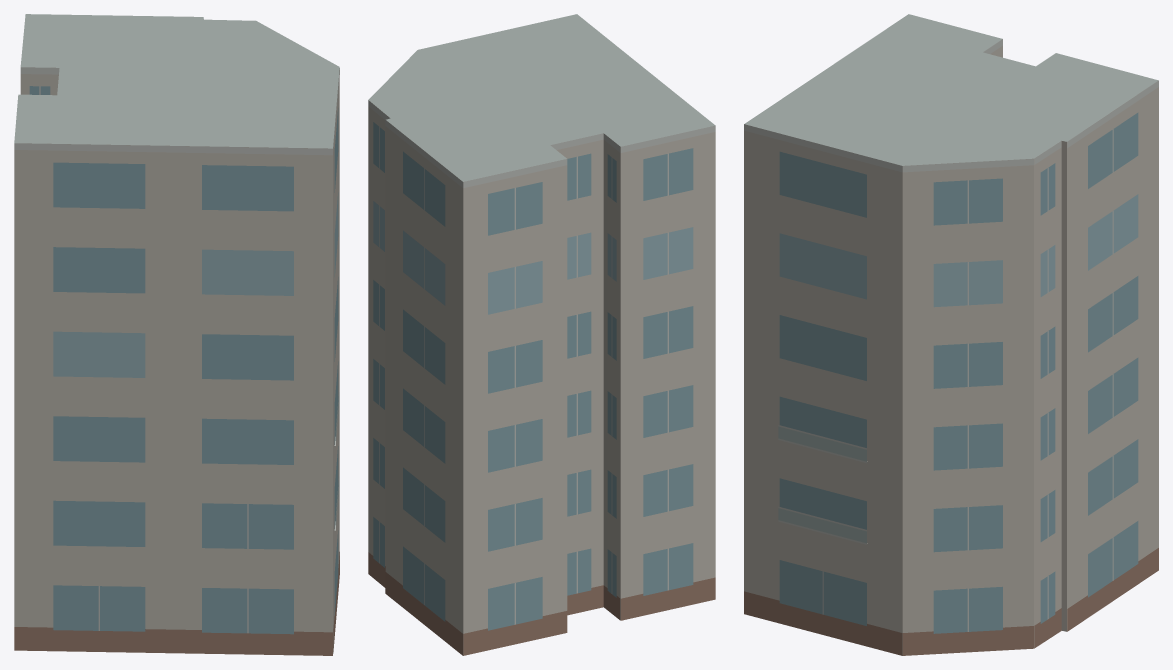
Rendered from survey-upis-32680203.glb.
3 renders of one model, left to right at view 1: azimuth 30°, elevation 25°; view 2: azimuth 150°, elevation 25°; view 3: azimuth 270°, elevation 25°, orthographic. The views are drawn at different scales.
Visible parts, largest first — view 1: survey-upis-32680203.tmp; view 2: survey-upis-32680203.tmp; view 3: survey-upis-32680203.tmp.
Part boxes in pixels (x1=…): survey-upis-32680203.tmp: x1=14, y1=14, x2=339, y2=655; survey-upis-32680203.tmp: x1=368, y1=14, x2=715, y2=655; survey-upis-32680203.tmp: x1=744, y1=14, x2=1158, y2=655.
Bounding box in the file's own units: 12.18 × 18.3 × 14.05.
